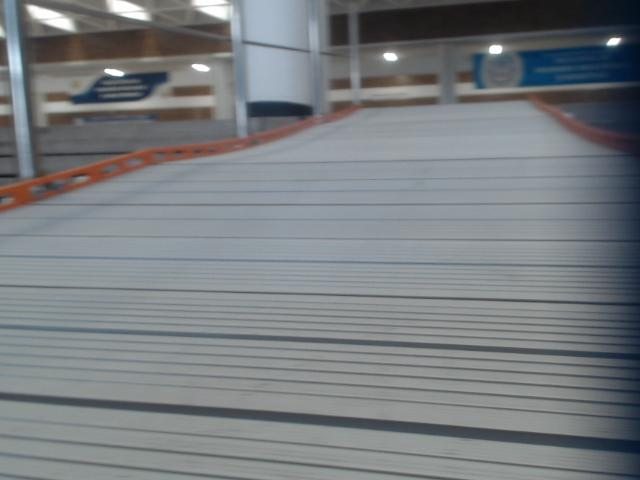rampUp: (0, 102, 639, 479)
ramps-railing: (148, 0, 332, 137), (3, 0, 35, 177), (34, 0, 144, 23)
